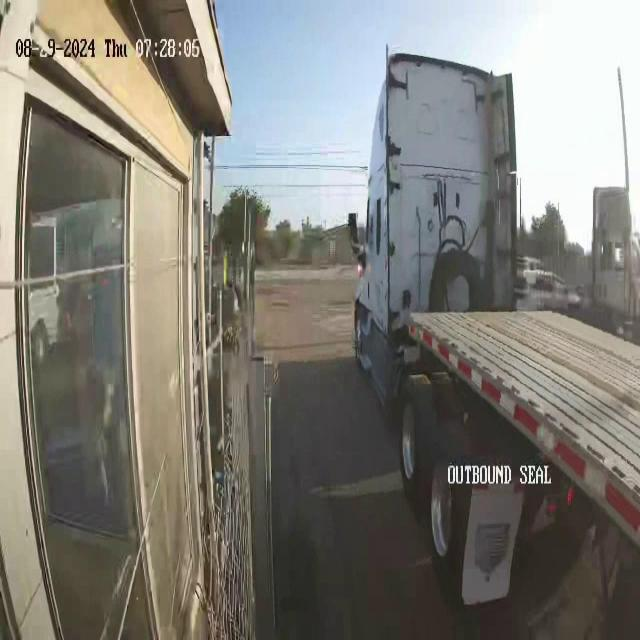TRUCK_OUT: (352, 43, 639, 608)
